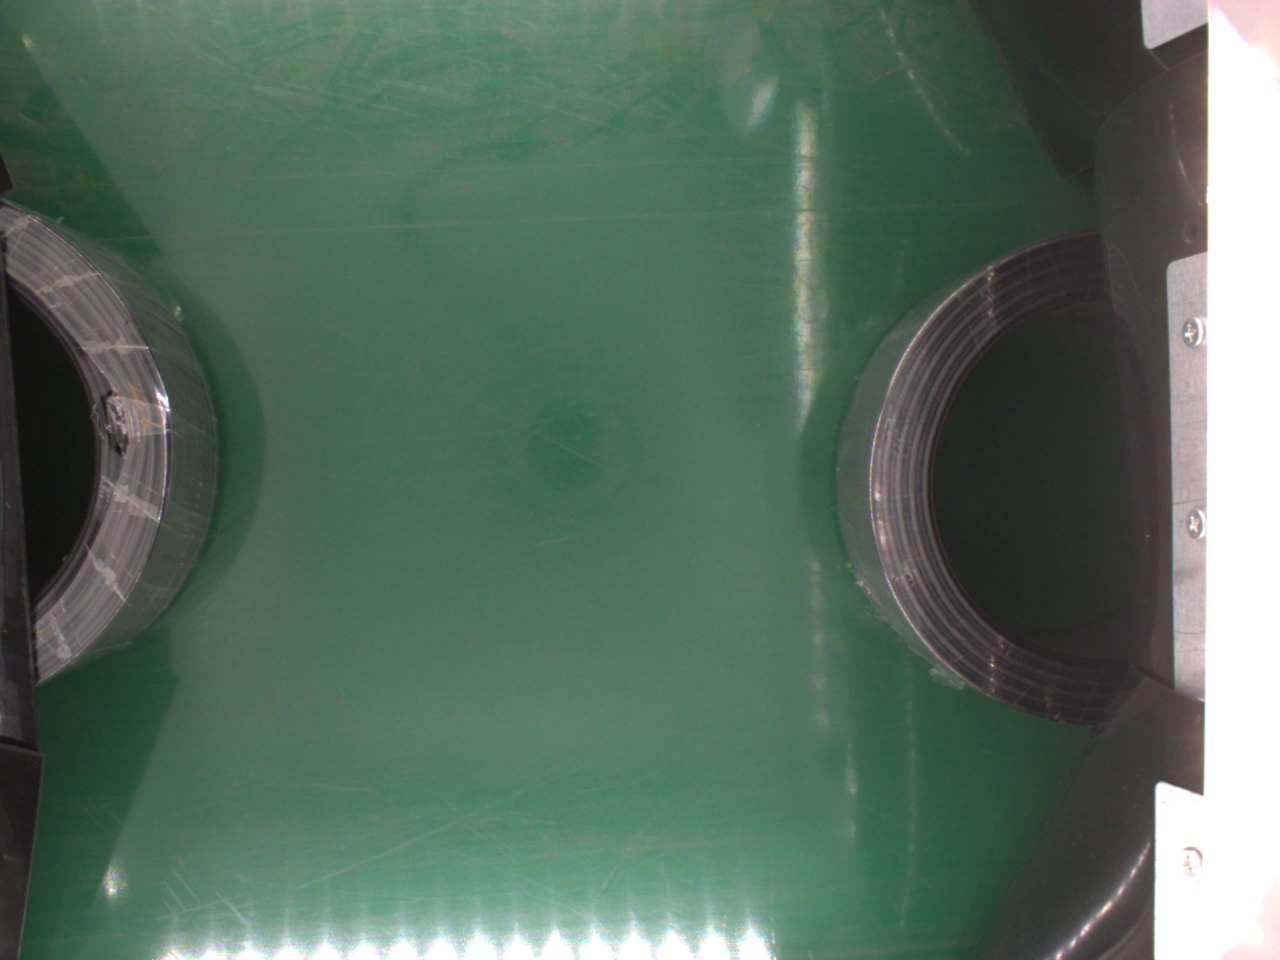black: (837, 233, 1142, 729), (2, 200, 221, 680)
